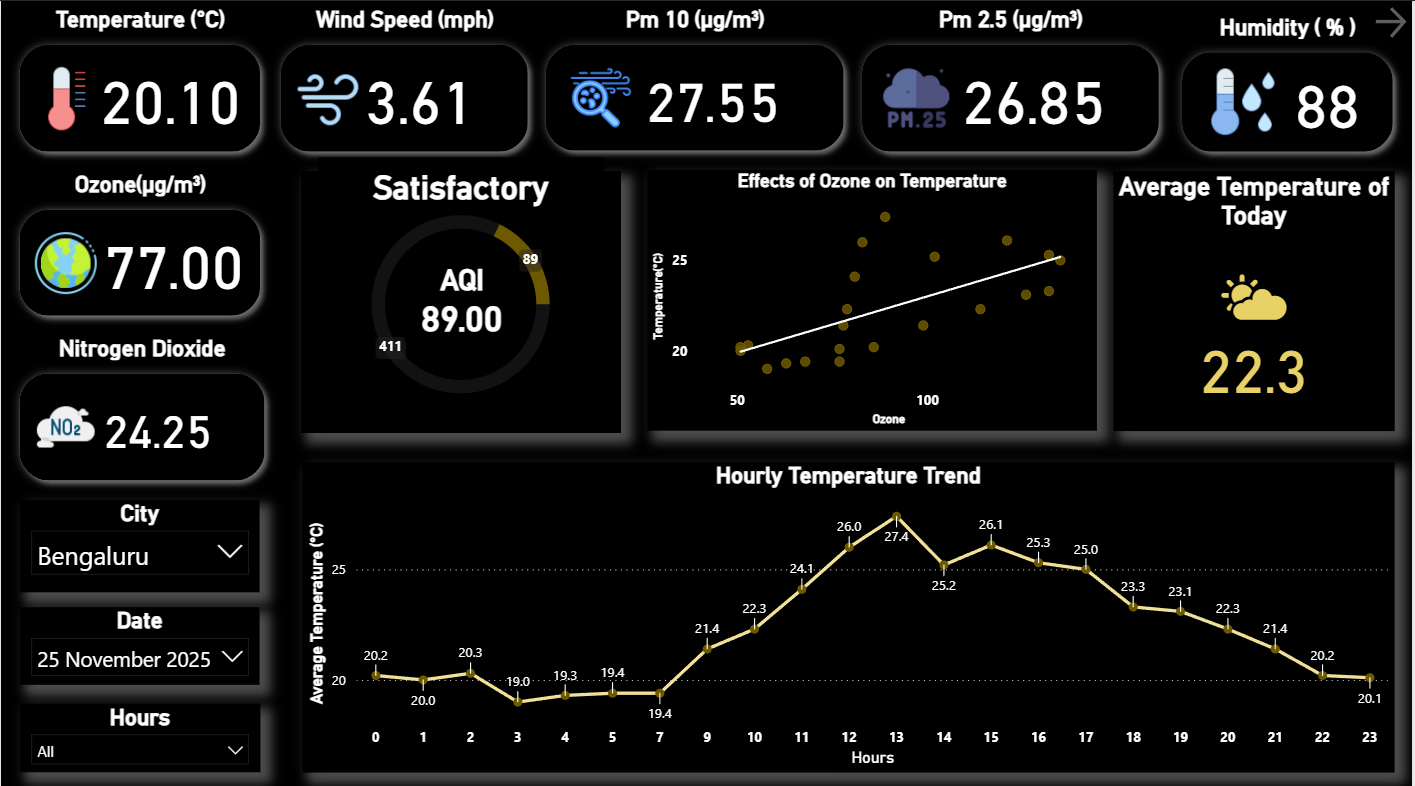

This screenshot's page, from the dashboard's own definition file:
{"tool":"powerbi","page":{"name":"Insights 1","canvas":[1280,720],"ordinal":0},"visuals":[{"type":"cardVisual","title":"Temperature (°C)","fields":{"Data":["public weather_data.Latest_Temperature"]},"box":[0,4.3,252.5,150],"z":0},{"type":"slicer","title":"City","fields":{"Values":["public weather_data.city"]},"box":[17.3,453,217.9,83.7],"z":1000},{"type":"slicer","title":"Date","fields":{"Values":["public weather_data.Date"]},"box":[17.3,549.7,217.9,70.7],"z":2000},{"type":"cardVisual","title":"Humidity ( % )","fields":{"Data":["MeasureTable.latest_humidity"]},"box":[1054.7,11.5,225.1,142.8],"z":3000},{"type":"cardVisual","title":"Ozone(µg/m³)","fields":{"Data":["public weather_data.latest_ozone"]},"box":[0,154.4,252.5,148.6],"z":4000},{"type":"cardVisual","title":"Nitrogen Dioxide","fields":{"Data":["MeasureTable.Latest_nitrogen_dioxode"]},"box":[0,303.2,256.5,149.8],"z":5000},{"type":"cardVisual","title":"Pm 10 (µg/m³)","fields":{"Data":["MeasureTable.latest_pm10"]},"box":[477,4.8,304.4,148.6],"z":6000},{"type":"cardVisual","title":"Pm 2.5 (µg/m³)","fields":{"Data":["MeasureTable.latest_pm2_5"]},"box":[764.6,4.8,303.2,149.8],"z":7000},{"type":"cardVisual","title":"Wind Speed (mph)","fields":{"Data":["MeasureTable.latest_wind_speed"]},"box":[236.6,4.3,258.3,150],"z":8000},{"type":"donutChart","fields":{"Y":["MeasureTable.PM25_Remaining","MeasureTable.AQI_Filled"]},"box":[272.1,154.6,290,237.3],"z":9000},{"type":"card","title":"AQI","fields":{"Values":["MeasureTable.AQI_Final"]},"box":[366.5,236.6,103.9,72.1],"z":10000},{"type":"card","fields":{"Values":["MeasureTable.PM2_5_Category"]},"box":[287.6,141.4,258.9,50.3],"z":11000},{"type":"lineChart","title":"Hourly Temperature Trend","fields":{"Y":["Avg(public weather_data.temperature)"],"Category":["public weather_data.Hour"]},"box":[273.3,418.3,991.2,281.6],"z":12000},{"type":"scatterChart","title":"Effects of Ozone on Temperature","fields":{"X":["public weather_data.ozone"],"Y":["public weather_data.temperature"]},"box":[586.4,153.1,408.3,237.1],"z":13000},{"type":"card","title":"Average Temperature of Today","fields":{"Values":["MeasureTable.AvgTemp_Icon"]},"box":[1009.5,154.3,255.2,235.9],"z":14000},{"type":"slicer","title":"Hours","fields":{"Values":["public weather_data.Hour"]},"box":[16.8,637.6,218.1,62.3],"z":15000},{"type":"actionButton","box":[1240.4,0,39.6,39.6],"z":16000}]}

Visuals, with their boxes in screenshot pixels (x1, y1, x2, y2), scaled from the page's 1280x720 canvas onto the 1415x786 screenshot:
"Temperature (°C)" cardVisual: pyautogui.locateOnScreen(0, 5, 279, 168)
"City" slicer: pyautogui.locateOnScreen(19, 495, 260, 586)
"Date" slicer: pyautogui.locateOnScreen(19, 600, 260, 677)
"Humidity ( % )" cardVisual: pyautogui.locateOnScreen(1166, 13, 1414, 168)
"Ozone(µg/m³)" cardVisual: pyautogui.locateOnScreen(0, 169, 279, 331)
"Nitrogen Dioxide" cardVisual: pyautogui.locateOnScreen(0, 331, 284, 495)
"Pm 10 (µg/m³)" cardVisual: pyautogui.locateOnScreen(527, 5, 864, 167)
"Pm 2.5 (µg/m³)" cardVisual: pyautogui.locateOnScreen(845, 5, 1180, 169)
"Wind Speed (mph)" cardVisual: pyautogui.locateOnScreen(262, 5, 547, 168)
donutChart - MeasureTable.PM25_Remaining x MeasureTable.AQI_Filled: pyautogui.locateOnScreen(301, 169, 621, 428)
"AQI" card: pyautogui.locateOnScreen(405, 258, 520, 337)
card - MeasureTable.PM2_5_Category: pyautogui.locateOnScreen(318, 154, 604, 209)
"Hourly Temperature Trend" lineChart: pyautogui.locateOnScreen(302, 457, 1398, 764)
"Effects of Ozone on Temperature" scatterChart: pyautogui.locateOnScreen(648, 167, 1100, 426)
"Average Temperature of Today" card: pyautogui.locateOnScreen(1116, 168, 1398, 426)
"Hours" slicer: pyautogui.locateOnScreen(19, 696, 260, 764)
actionButton: pyautogui.locateOnScreen(1371, 0, 1414, 43)
